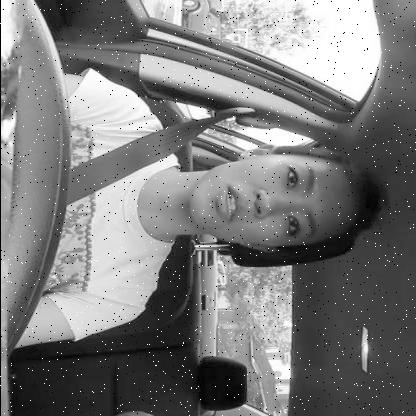seatbelt: (0, 104, 398, 300)
